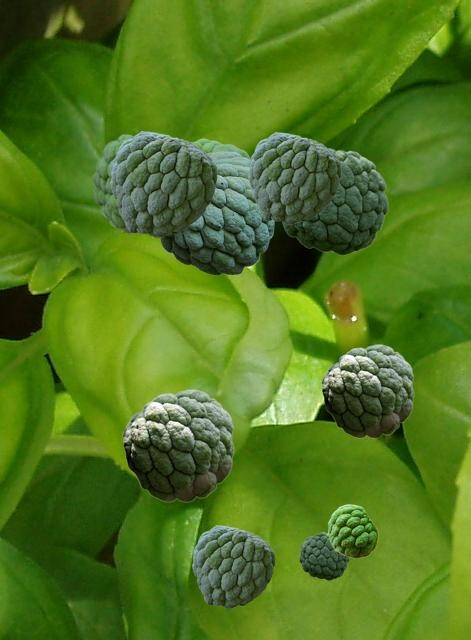atis: (159, 151, 274, 274), (122, 389, 233, 501), (281, 148, 387, 254), (110, 131, 216, 236), (321, 344, 413, 437), (248, 132, 340, 223), (192, 525, 274, 607), (92, 134, 133, 232), (328, 504, 377, 557), (299, 532, 348, 579), (190, 138, 249, 158)
